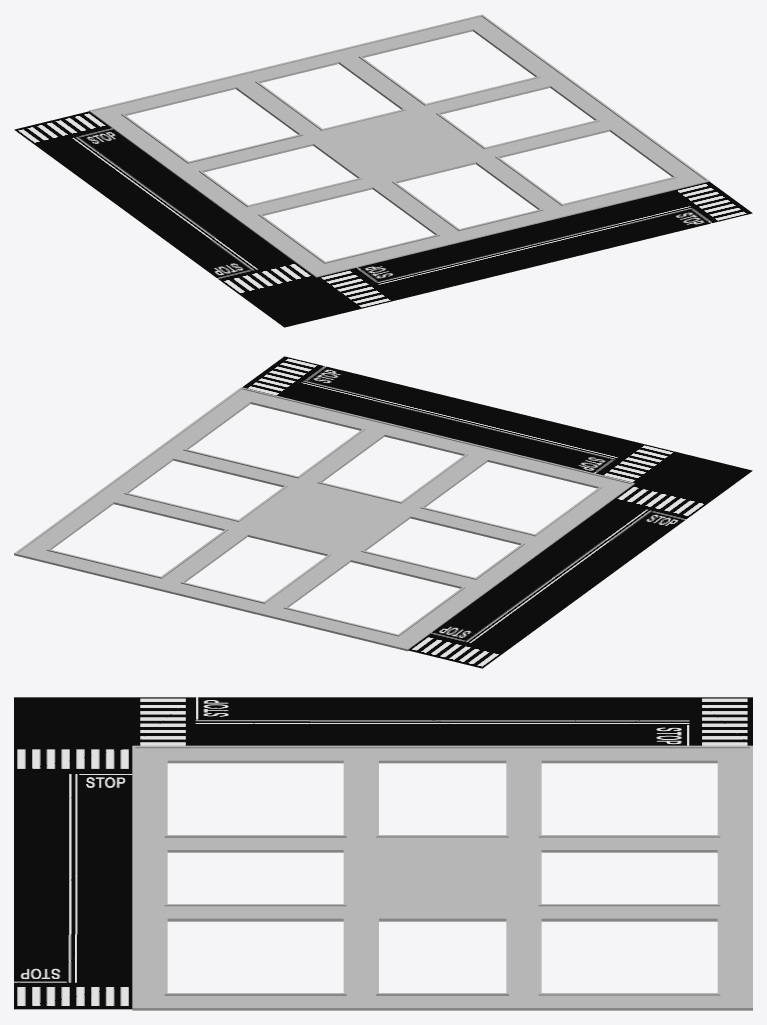
Rendered from Street_05.fbx.
3 views of the same model, one above another, from view 1: azimuth 30°, elevation 25°; view 2: azimuth 150°, elevation 25°; view 3: azimuth 270°, elevation 25° (orthographic). The views are drawn at different scales.
Parts seen in each view (by area): view 1: sidewalk, road; view 2: sidewalk, road; view 3: sidewalk, road.
Boxes of the visible parts, x1=… form: sidewalk: x1=89, y1=14, x2=709, y2=277; road: x1=14, y1=111, x2=752, y2=327; sidewalk: x1=14, y1=387, x2=634, y2=651; road: x1=242, y1=356, x2=752, y2=668; sidewalk: x1=132, y1=745, x2=752, y2=1010; road: x1=14, y1=697, x2=752, y2=1009.
Bounding box in the file's own units: 5000 × 20 × 5000.
